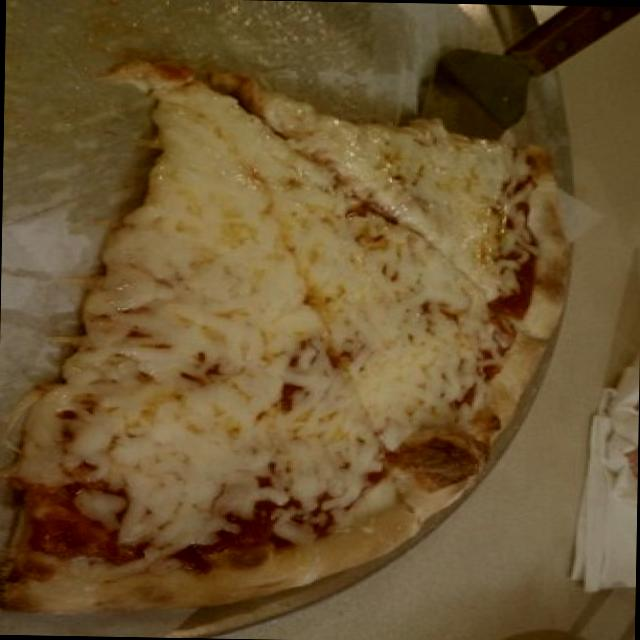pizza: (0, 63, 566, 608)
